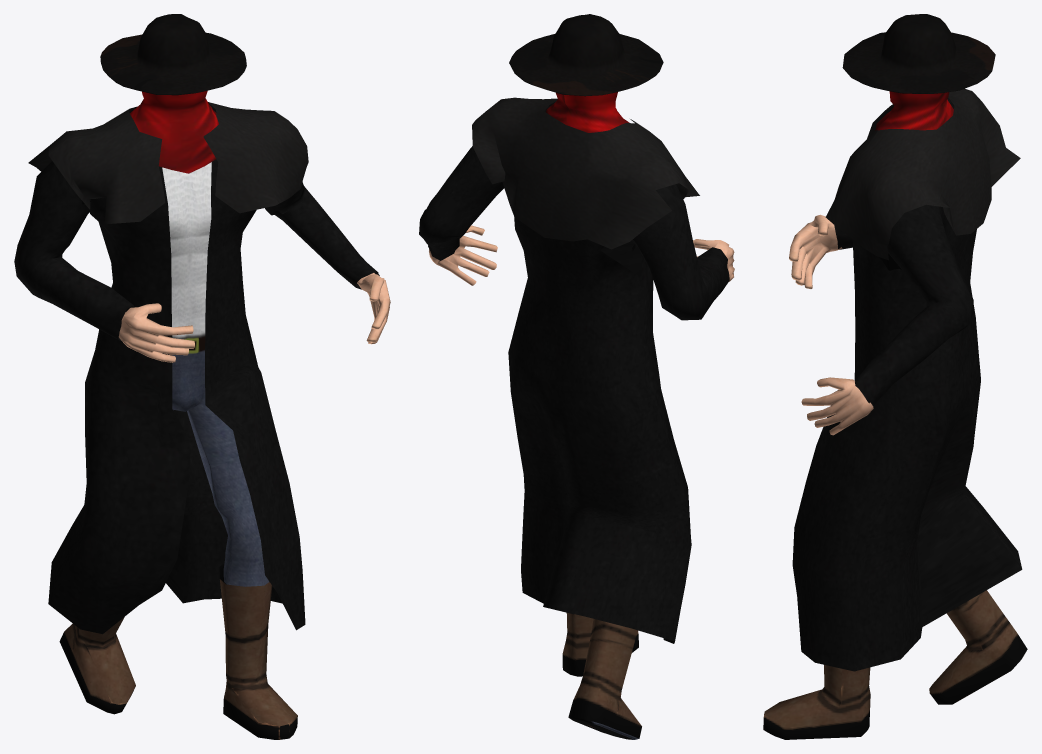
3 views of the same model, side by side, from view 1: azimuth 30°, elevation 25°; view 2: azimuth 150°, elevation 25°; view 3: azimuth 270°, elevation 25° (orthographic). The views are drawn at different scales.
Visible parts, largest first — view 1: Undertaker_Attack:Undertaker_4:Undertaker_4:Undertaker; view 2: Undertaker_Attack:Undertaker_4:Undertaker_4:Undertaker; view 3: Undertaker_Attack:Undertaker_4:Undertaker_4:Undertaker.
Boxes of the visible parts, x1,y1,x2,y2 form: Undertaker_Attack:Undertaker_4:Undertaker_4:Undertaker: (14, 14, 390, 739); Undertaker_Attack:Undertaker_4:Undertaker_4:Undertaker: (419, 14, 734, 739); Undertaker_Attack:Undertaker_4:Undertaker_4:Undertaker: (763, 14, 1027, 739).
Bounding box in the file's own units: 1.4 × 2.9 × 0.9842.
Materials: 1 (1 with a texture image).
